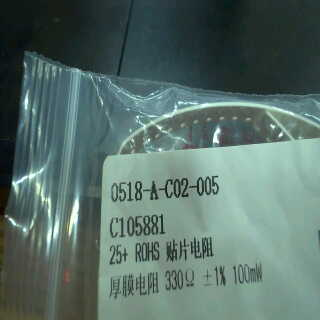330R: (160, 263, 196, 295)
